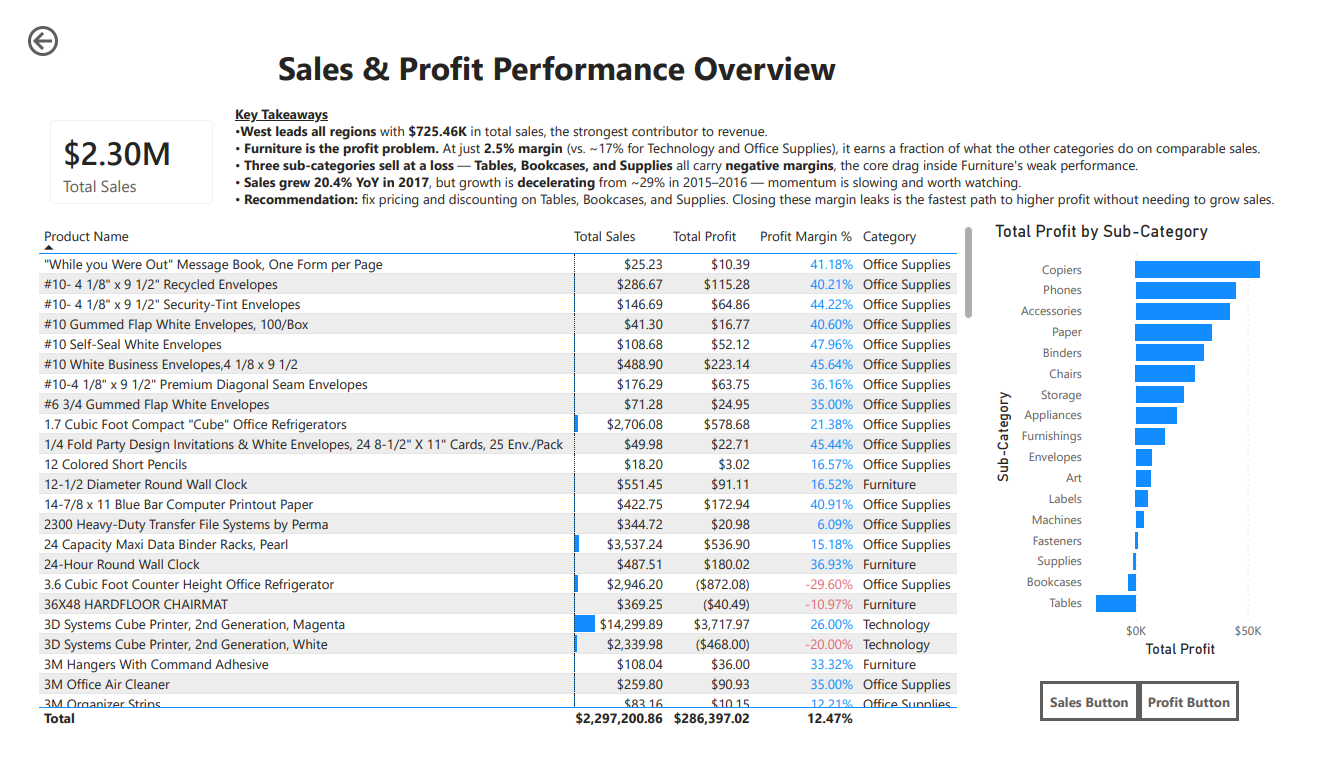

The page's visual inventory and layout, read from the dashboard file:
{"tool":"powerbi","page":{"name":"Product Detail","canvas":[1280,720],"ordinal":1},"visuals":[{"type":"cardVisual","fields":{"Data":["Date.Total Sales"]},"box":[9.7,81.8,196.9,117.9],"z":0},{"type":"tableEx","fields":{"Values":["Orders.Product Name","Date.Total Sales","Date.Total Profit","Date.Profit Margin %","Orders.Category"]},"box":[9.7,199.7,945.8,511.7],"z":1000},{"type":"actionButton","box":[0,0,100,40],"z":2000},{"type":"textbox","box":[249.6,19.4,581.1,59.6],"z":3000},{"type":"textbox","box":[206.6,79,1073.4,120.7],"z":4000},{"type":"barChart","fields":{"Category":["Orders.Sub-Category"],"Y":["Date.Total Profit"]},"box":[966.6,199.7,299.5,441],"z":6000},{"type":"actionButton","title":"Sales Button","box":[1016.5,660.1,99.8,40.2],"z":7000},{"type":"actionButton","title":"Profit Button","box":[1116.4,660.1,99.8,40.2],"z":8000}]}

Visuals, with their boxes in screenshot pixels (x1, y1, x2, y2), scaled from the page's 1280x720 canvas onto the 1326x763 screenshot:
cardVisual - Date.Total Sales: 10, 87, 214, 212
tableEx - Orders.Product Name x Date.Total Sales: 10, 212, 990, 754
actionButton: 0, 0, 104, 42
textbox: 259, 21, 861, 84
textbox: 214, 84, 1325, 212
barChart - Orders.Sub-Category x Date.Total Profit: 1001, 212, 1312, 679
"Sales Button" actionButton: 1053, 700, 1156, 742
"Profit Button" actionButton: 1157, 700, 1260, 742
